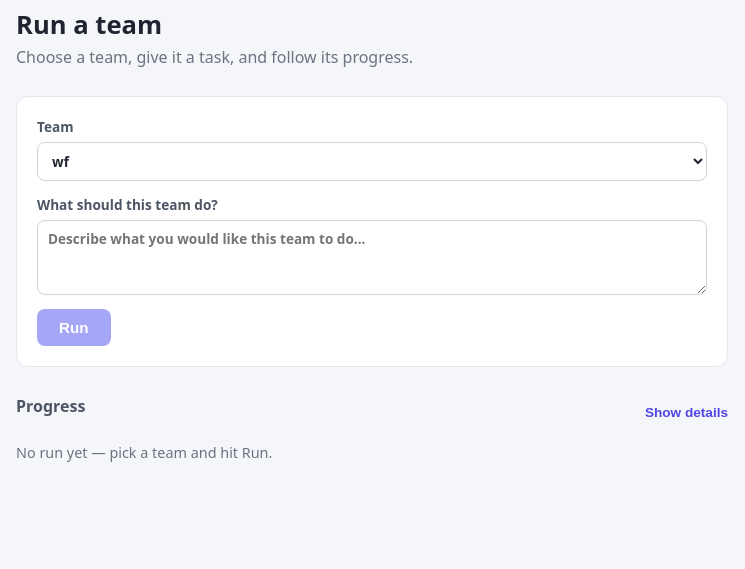
Test: MonitorPage run waiting UX › shows connecting, then connected, as the websocket opens
The width and height of the screenshot is (745, 569).
Type "do the thing" into the text box labelled "What should this team do?" at (372, 258), box [37, 220, 707, 295]
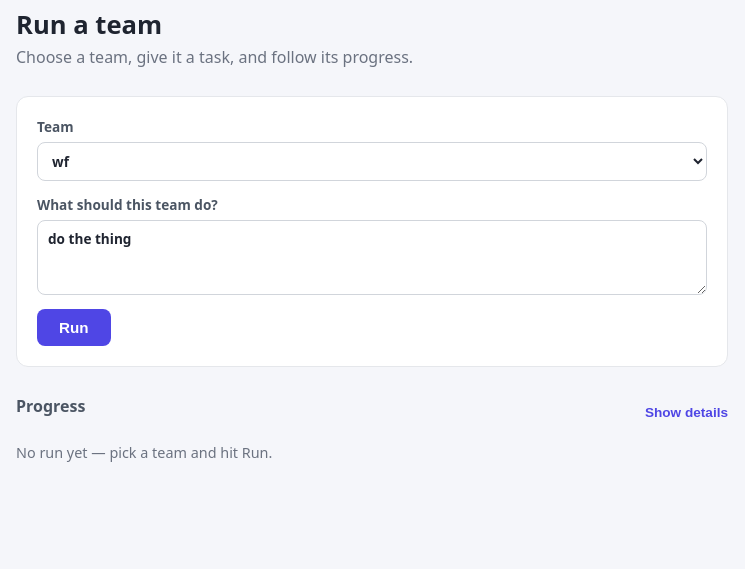
Click the button "Run" at (74, 328), box [37, 309, 110, 346]
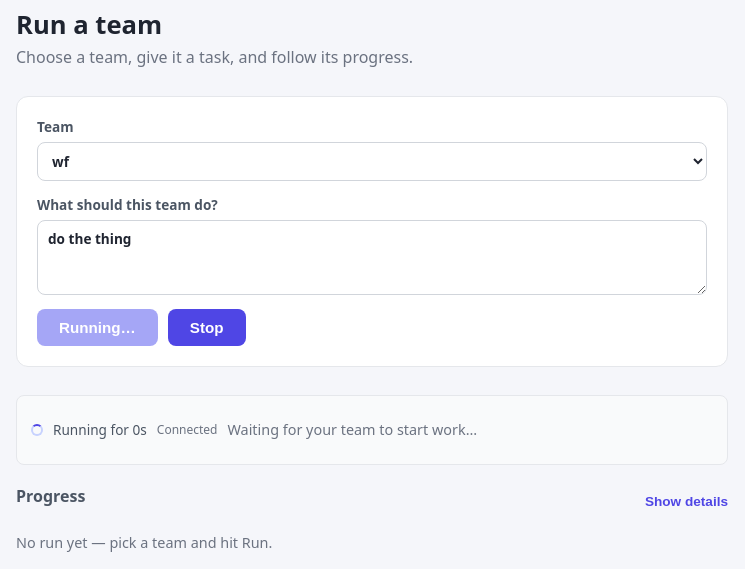
Check: the text "Connected" is shown, box [157, 421, 218, 438]
